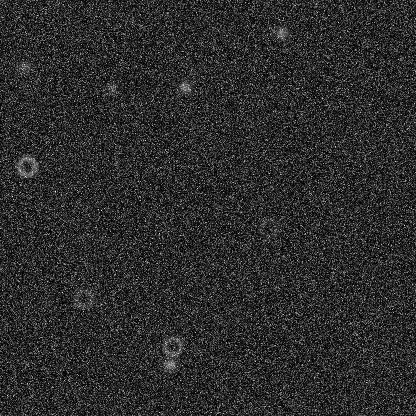Ring: (160, 334, 184, 358), (14, 154, 38, 178), (256, 216, 280, 240), (71, 286, 95, 310)
Spot: (161, 356, 177, 372), (177, 79, 193, 95), (15, 59, 31, 75), (103, 79, 119, 95), (273, 24, 289, 40)
